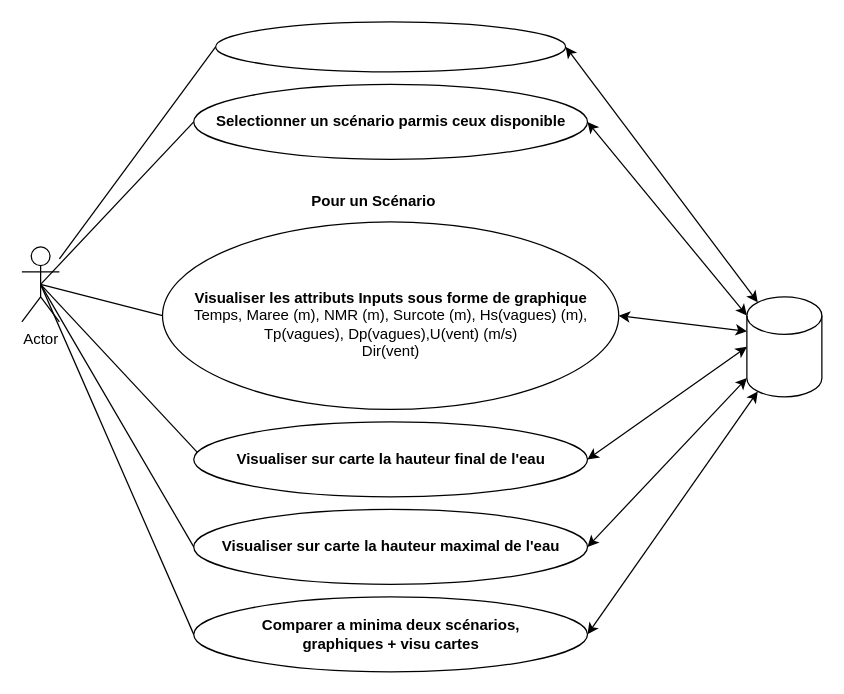
Some shapes in this 844 by 694 pixel diagram are drawn without their labels. The shapes that lost their labels are listed below. From the top down, each one's centre as x and y in pixels, then its label:
point (390, 46): Visualiser les sites de Gavre et Arcachon
point (784, 346): Data
